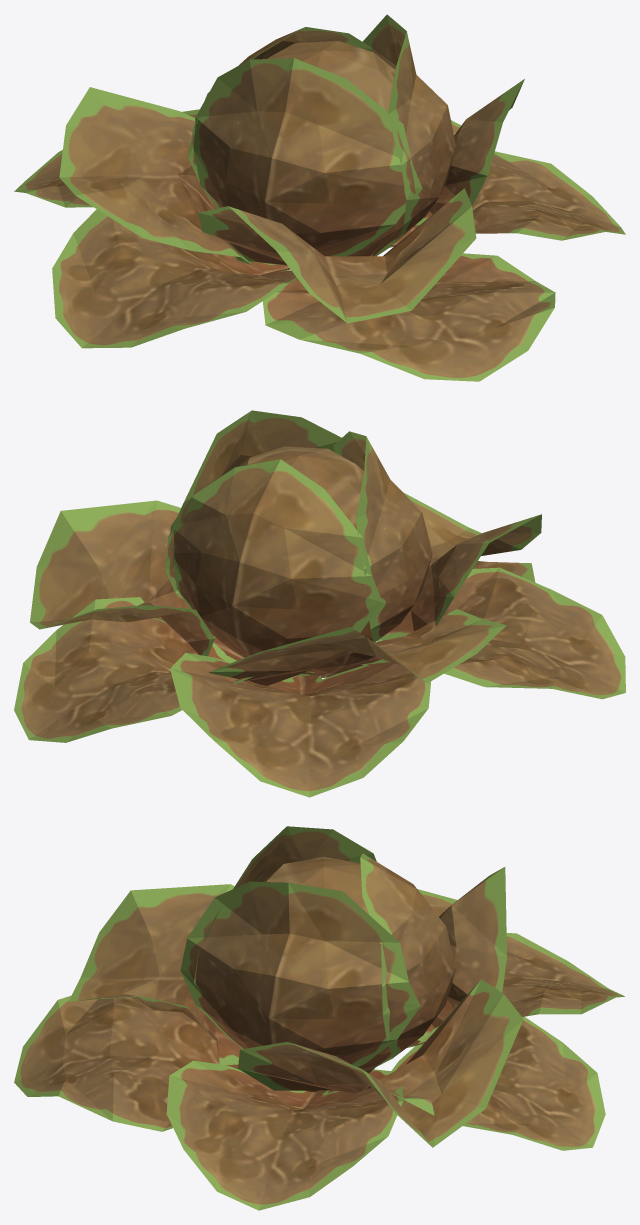
Rendered from Cabbage_04.obj.
3 views of the same model, one above another, from view 1: azimuth 30°, elevation 25°; view 2: azimuth 150°, elevation 25°; view 3: azimuth 270°, elevation 25° (orthographic).
Size of the model in its own units: 0.6807 by 0.3446 by 0.6613.
1 material, 1 textured.
